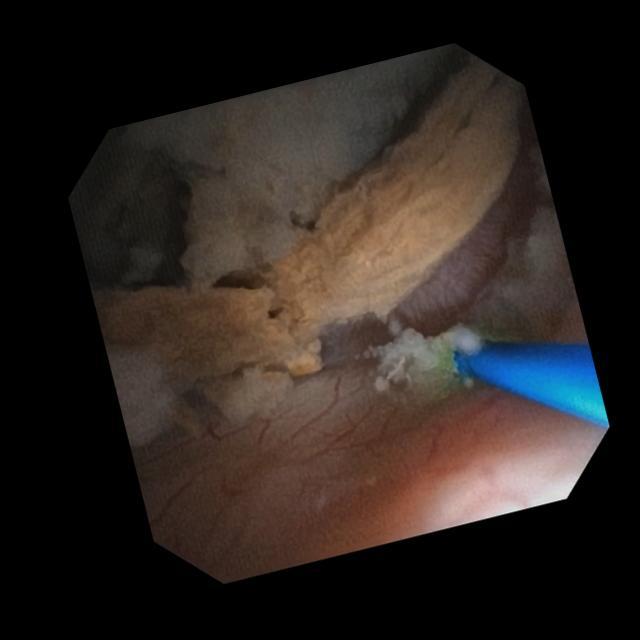stone-new: (275, 58, 521, 340), (93, 285, 301, 379)
